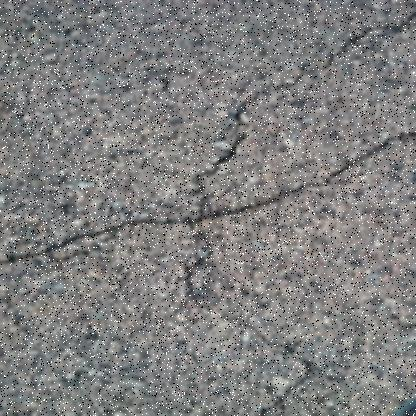Cracks: (0, 123, 416, 269), (187, 3, 415, 188), (237, 320, 338, 416)
